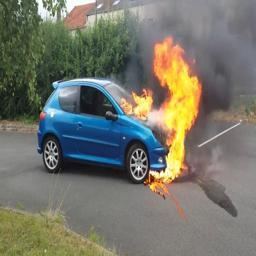fire: (119, 35, 202, 183)
